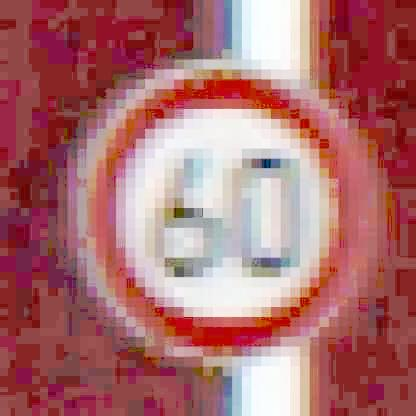Speed Limit -60-: (69, 62, 377, 366)
